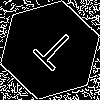T: (25, 25, 79, 80)
